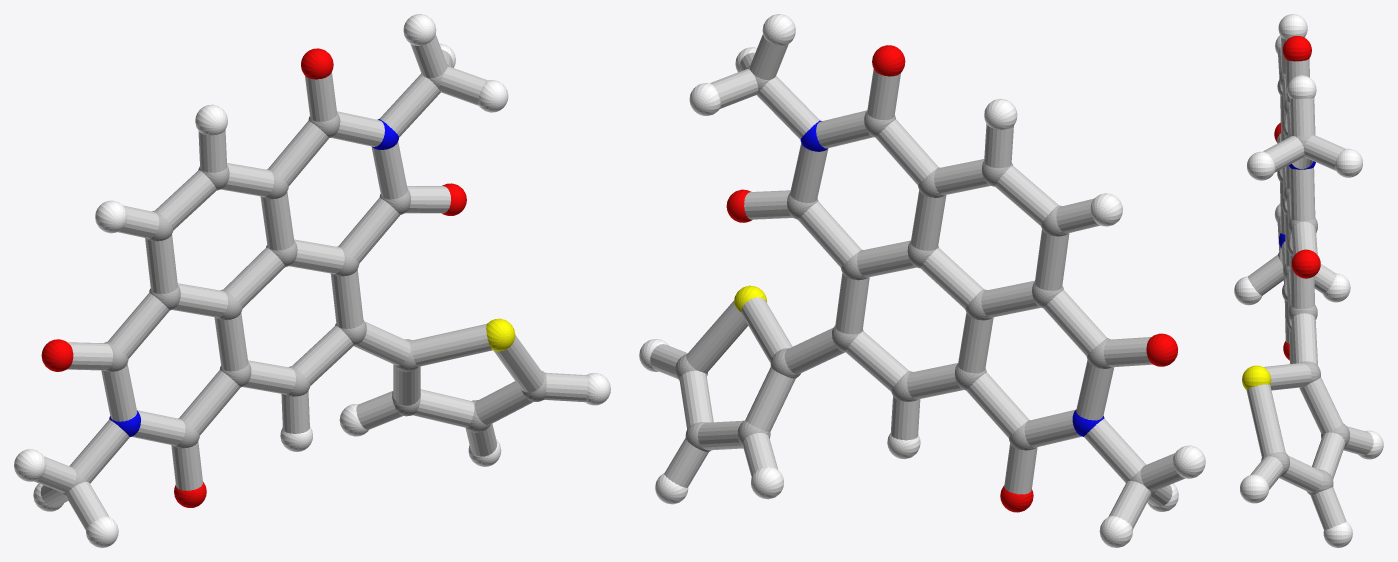
Rendered from Dimethyl_Naphthalene_Dicarboximide_Phi_5_Theta_220_Thiophene.glb.
3 renders of one model, left to right at view 1: azimuth 30°, elevation 25°; view 2: azimuth 150°, elevation 25°; view 3: azimuth 270°, elevation 25°, orthographic. The views are drawn at different scales.
Parts seen in each view (by area): view 1: grp14119, grp7241, grp1, grp12309, grp13757, grp11585; view 2: grp14119, grp7241, grp1, grp12309, grp11585; view 3: grp14119, grp7241, grp1, grp12309, grp13757.
Part boxes in pixels (x1=…): grp14119: x1=34, y1=34, x2=587, y2=530; grp7241: x1=14, y1=14, x2=610, y2=547; grp1: x1=60, y1=64, x2=546, y2=496; grp12309: x1=41, y1=48, x2=466, y2=507; grp13757: x1=486, y1=318, x2=515, y2=351; grp11585: x1=109, y1=119, x2=398, y2=436; grp14119: x1=650, y1=34, x2=1185, y2=529; grp7241: x1=639, y1=14, x2=1205, y2=547; grp1: x1=675, y1=66, x2=1155, y2=495; grp12309: x1=726, y1=45, x2=1177, y2=512; grp11585: x1=800, y1=120, x2=1104, y2=436; grp14119: x1=1246, y1=37, x2=1373, y2=530; grp7241: x1=1234, y1=14, x2=1383, y2=547; grp1: x1=1261, y1=71, x2=1349, y2=495; grp12309: x1=1274, y1=36, x2=1320, y2=360; grp13757: x1=1242, y1=365, x2=1271, y2=389.
Bounding box in the file's own units: 12.1 × 9.8 × 3.07.
